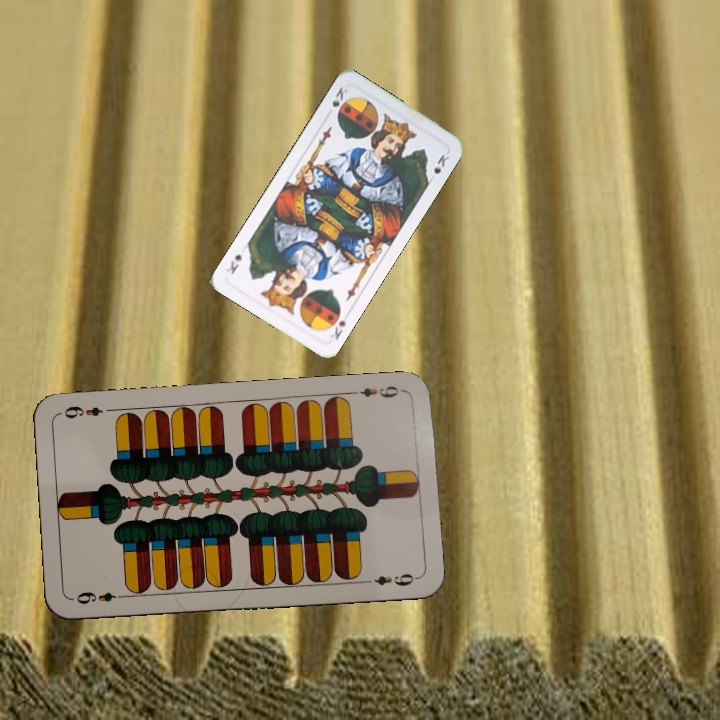E9: (72, 587, 129, 607), (347, 382, 406, 401)
SK: (328, 83, 351, 117), (326, 315, 349, 343)
